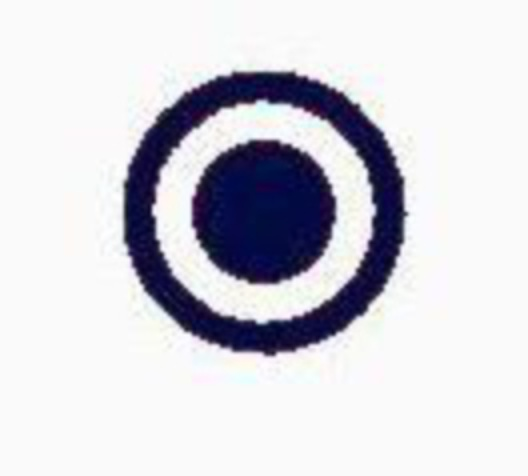RadioButton: (1, 1, 527, 475)
